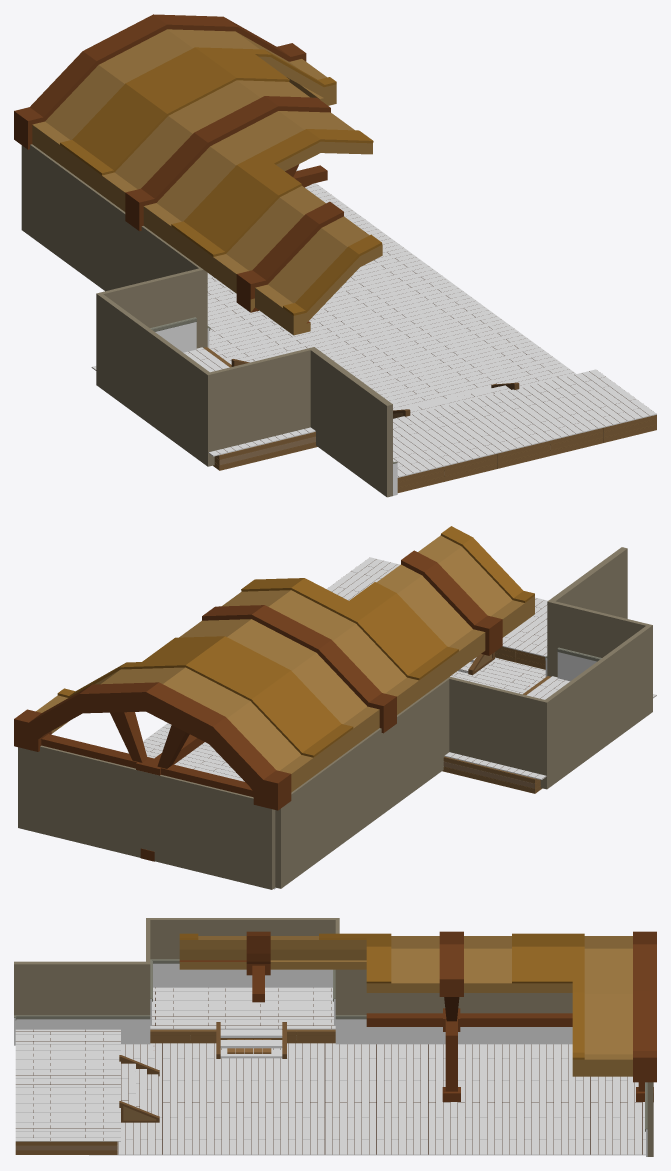
The model's file is Room.fbx.
3 renders of one model, top to bottom at view 1: azimuth 30°, elevation 25°; view 2: azimuth 150°, elevation 25°; view 3: azimuth 270°, elevation 25°, orthographic. The views are drawn at different scales.
Parts seen in each view (by area): view 1: Room; view 2: Room; view 3: Room.
Boxes of the visible parts, left/top/right/bottom form: Room: left=14, top=14, right=656, bottom=497; Room: left=14, top=526, right=656, bottom=889; Room: left=14, top=918, right=656, bottom=1156.
Bounding box in the file's own units: 40.52 × 68.66 × 18.92.
